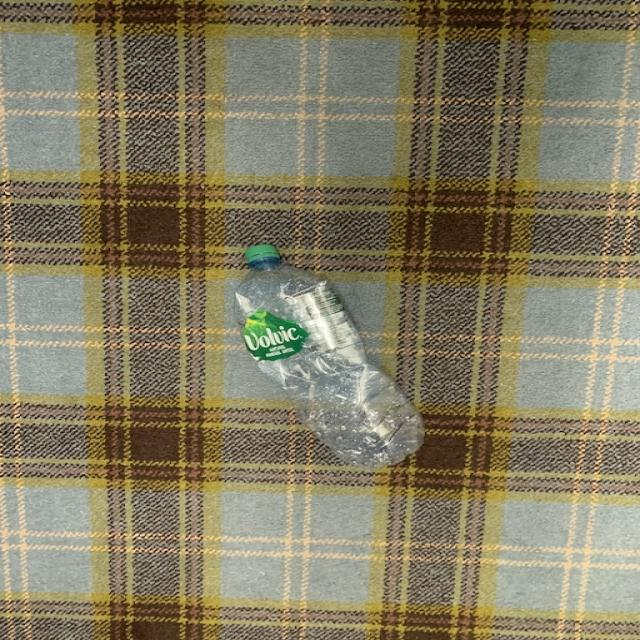Waste: (235, 246, 425, 470)
